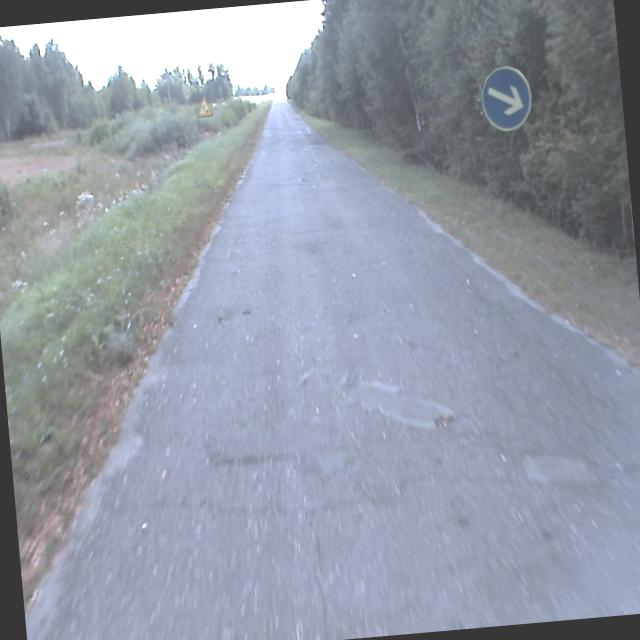road: (25, 99, 640, 640)
